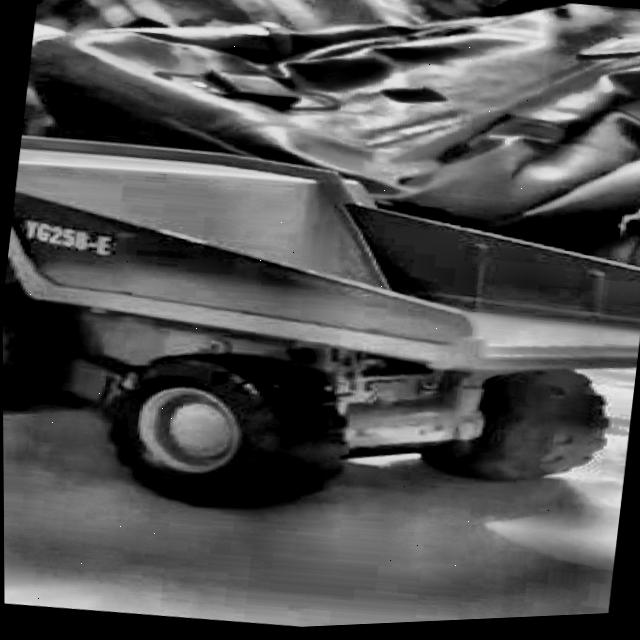dump_truck: (1, 105, 640, 563)
